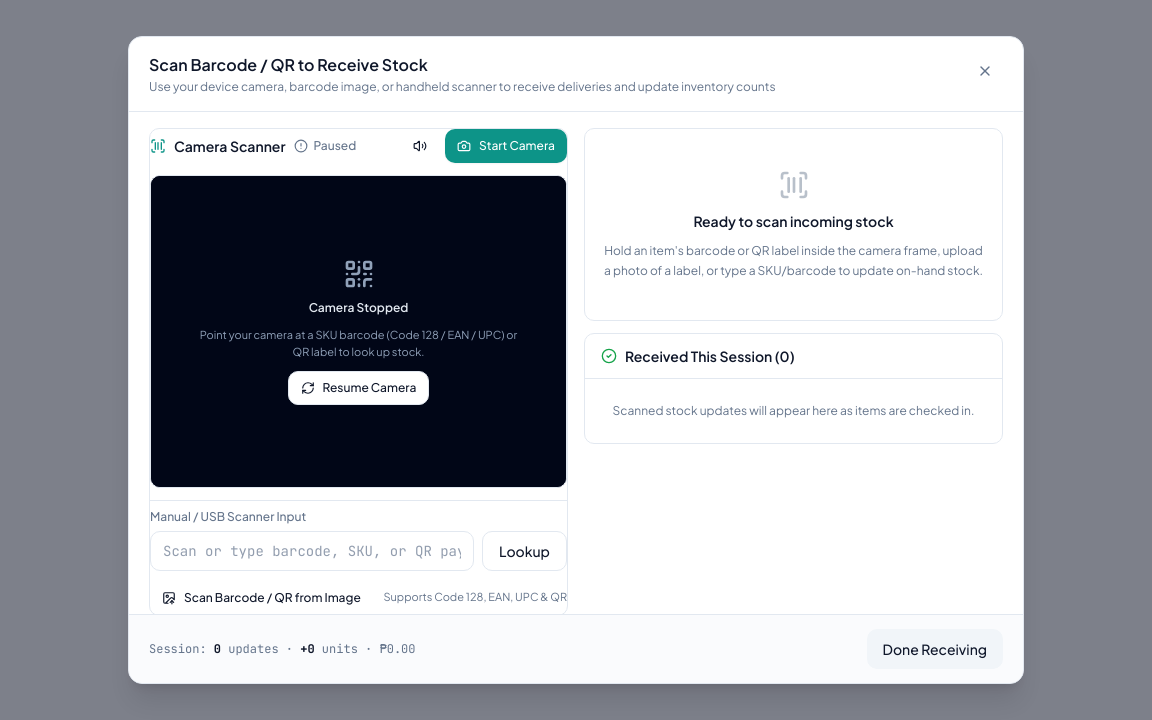
Test: BarcodeReceivingScannerModal › allows linking an unrecognized barcode to an existing inventory item
The width and height of the screenshot is (1152, 720).
Later steps or results of the test are not shown.
Type "480777888999" into the field labelled "Manual / USB Scanner Input".
click(312, 551); type("480777888999")  # box [150,531,474,571]
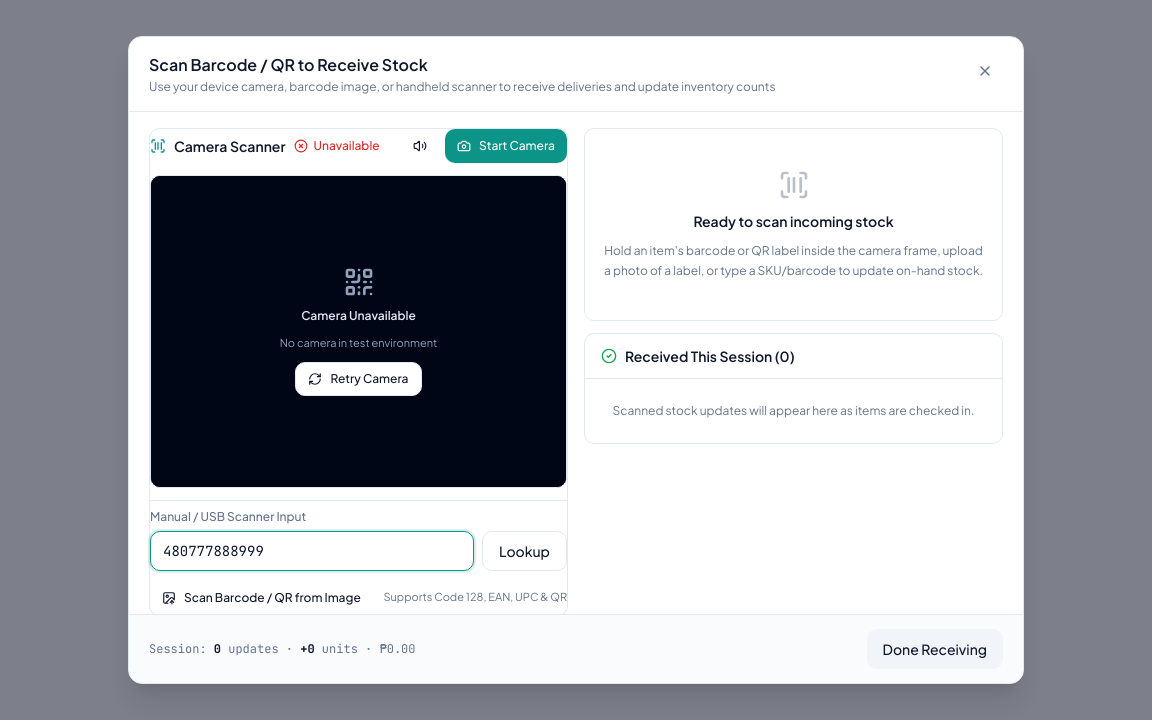
Click the button "Lookup".
click(524, 551)  # box [482,531,567,571]
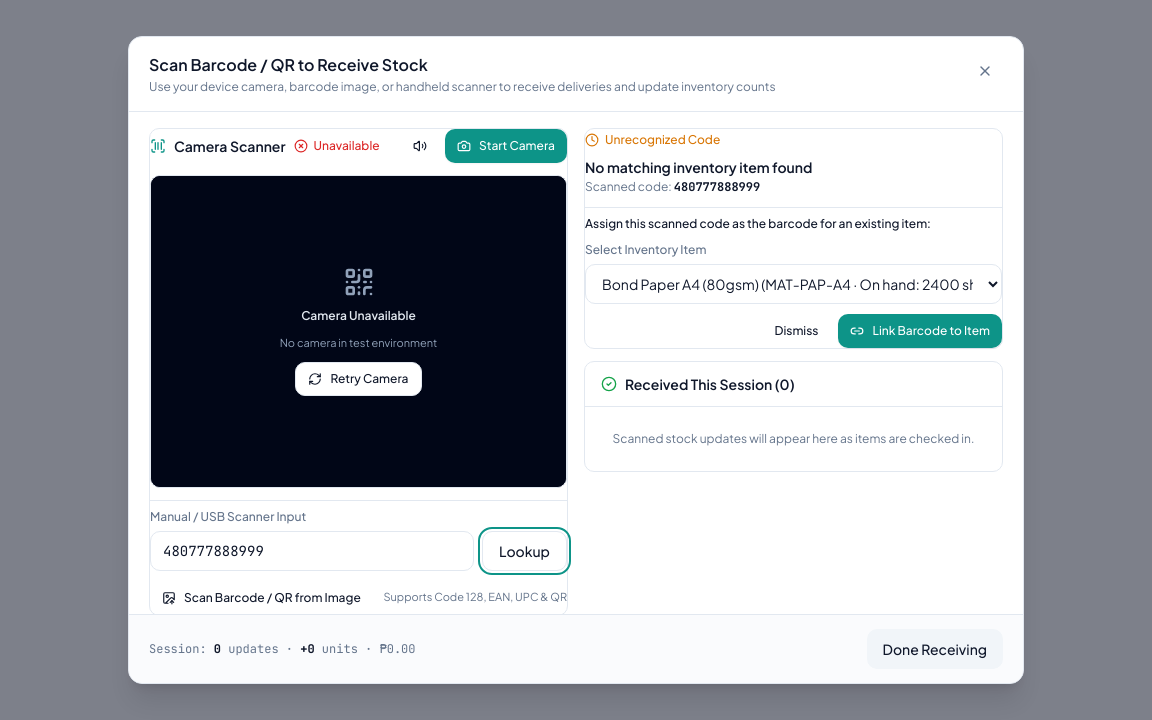
Expected: the heading "No matching inventory item found" is shown, [585,157,812,177]
